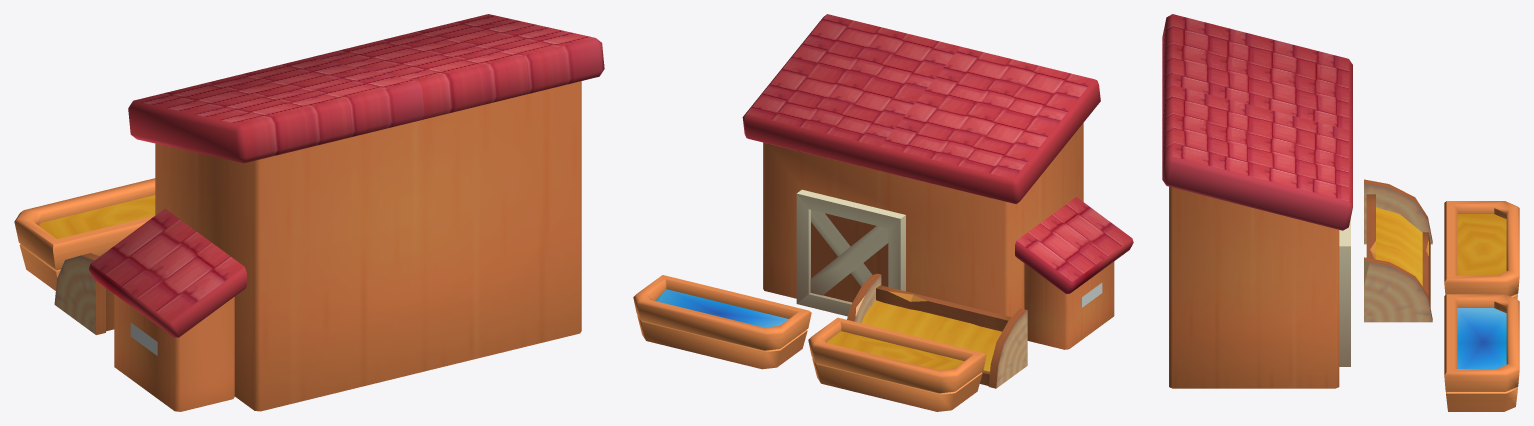
The model's file is farmpack_fbx.glb.
3 views of the same model, side by side, from view 1: azimuth 30°, elevation 25°; view 2: azimuth 150°, elevation 25°; view 3: azimuth 270°, elevation 25° (orthographic). The views are drawn at different scales.
Parts seen in each view (by area): view 1: Animal_House, Feedlot, Feedlot_2; view 2: Animal_House, Feedlot, Animal_Water, Animal_House_Door, Feedlot_2; view 3: Animal_House, Feedlot_2, Animal_Water, Feedlot, Animal_House_Door.
Part boxes in pixels (box(x1,y1,x2,y2)): Animal_House: box(89, 14, 604, 411); Feedlot: box(14, 178, 155, 290); Feedlot_2: box(54, 253, 114, 334); Animal_House: box(742, 14, 1133, 349); Feedlot: box(808, 317, 986, 411); Animal_Water: box(633, 275, 811, 369); Animal_House_Door: box(796, 189, 905, 316); Feedlot_2: box(847, 273, 1027, 388); Animal_House: box(1162, 14, 1352, 388); Feedlot_2: box(1364, 179, 1432, 322); Animal_Water: box(1444, 294, 1519, 411); Feedlot: box(1444, 201, 1519, 299); Animal_House_Door: box(1339, 218, 1350, 366).
Bounding box in the file's own units: 3.76 × 2.21 × 3.
Materials: 1 (1 with a texture image).
